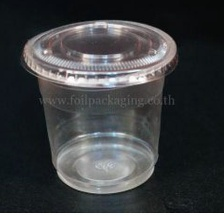glass: (11, 14, 190, 202)
